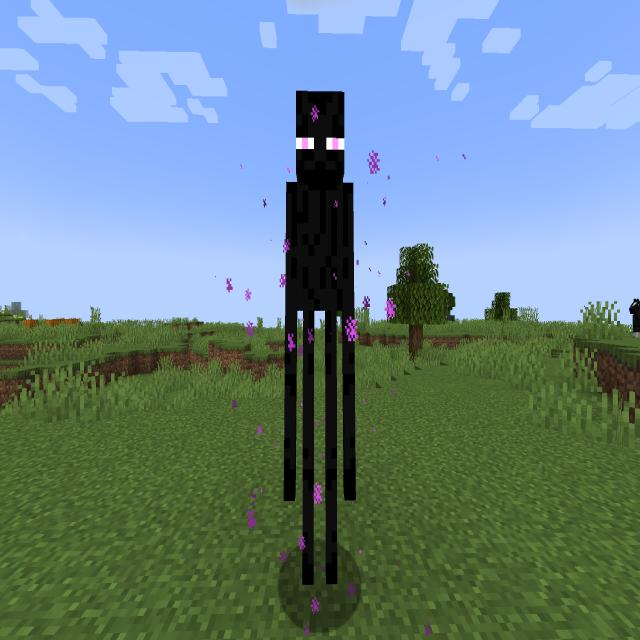Enderman: (276, 64, 379, 610)
